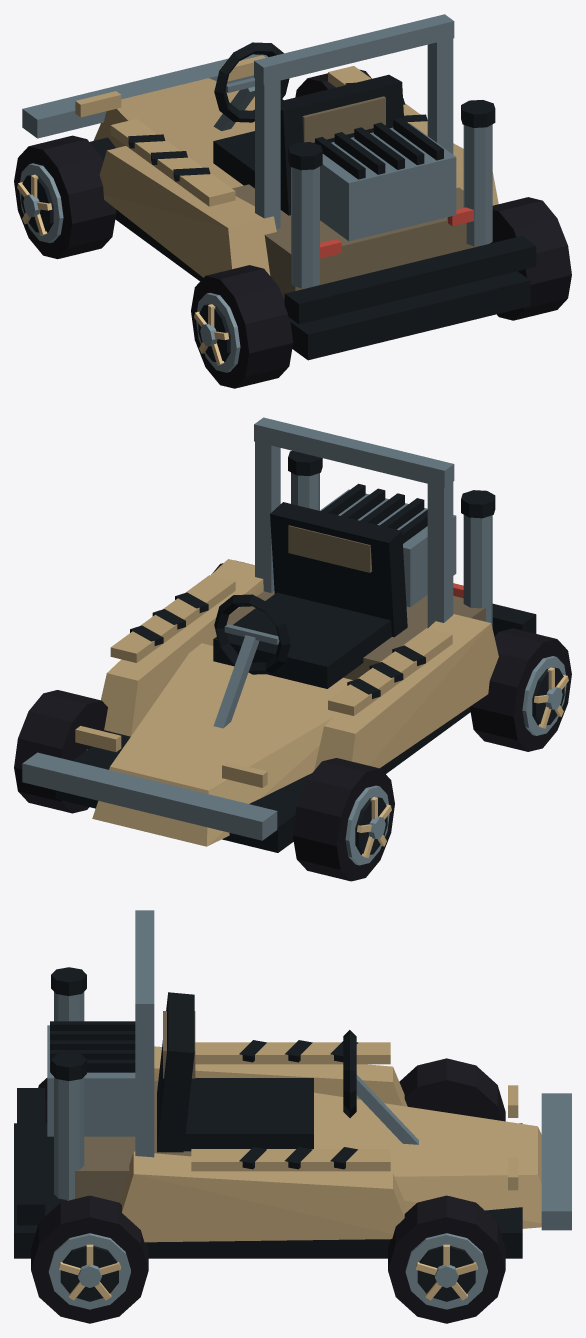
File: kart.glb
3 renders of one model, top to bottom at view 1: azimuth 30°, elevation 25°; view 2: azimuth 150°, elevation 25°; view 3: azimuth 270°, elevation 25°, orthographic.
Parts seen in each view (by area): view 1: chassis, wheel-rear-left, wheel-front-left, wheel-rear-right, wheel-front-right; view 2: chassis, wheel-front-left, wheel-rear-left, wheel-front-right; view 3: chassis, wheel-front-right, wheel-rear-right, wheel-front-left.
Boxes of the visible parts, x1=… form: chassis: x1=22, y1=14, x2=536, y2=360; wheel-rear-left: x1=191, y1=265, x2=293, y2=388; wheel-front-left: x1=14, y1=135, x2=116, y2=259; wheel-rear-right: x1=490, y1=197, x2=571, y2=320; wheel-front-right: x1=295, y1=69, x2=371, y2=97; chassis: x1=22, y1=417, x2=536, y2=852; wheel-front-left: x1=292, y1=758, x2=394, y2=881; wheel-rear-left: x1=470, y1=628, x2=571, y2=751; wheel-front-right: x1=14, y1=690, x2=111, y2=813; chassis: x1=14, y1=910, x2=571, y2=1258; wheel-front-right: x1=388, y1=1195, x2=505, y2=1323; wheel-rear-right: x1=31, y1=1195, x2=148, y2=1323; wheel-front-left: x1=399, y1=1058, x2=505, y2=1121.
Bounding box in the file's own units: 2.15 × 1.67 × 2.94.
